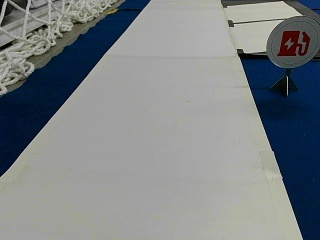battery: (266, 14, 318, 69)
